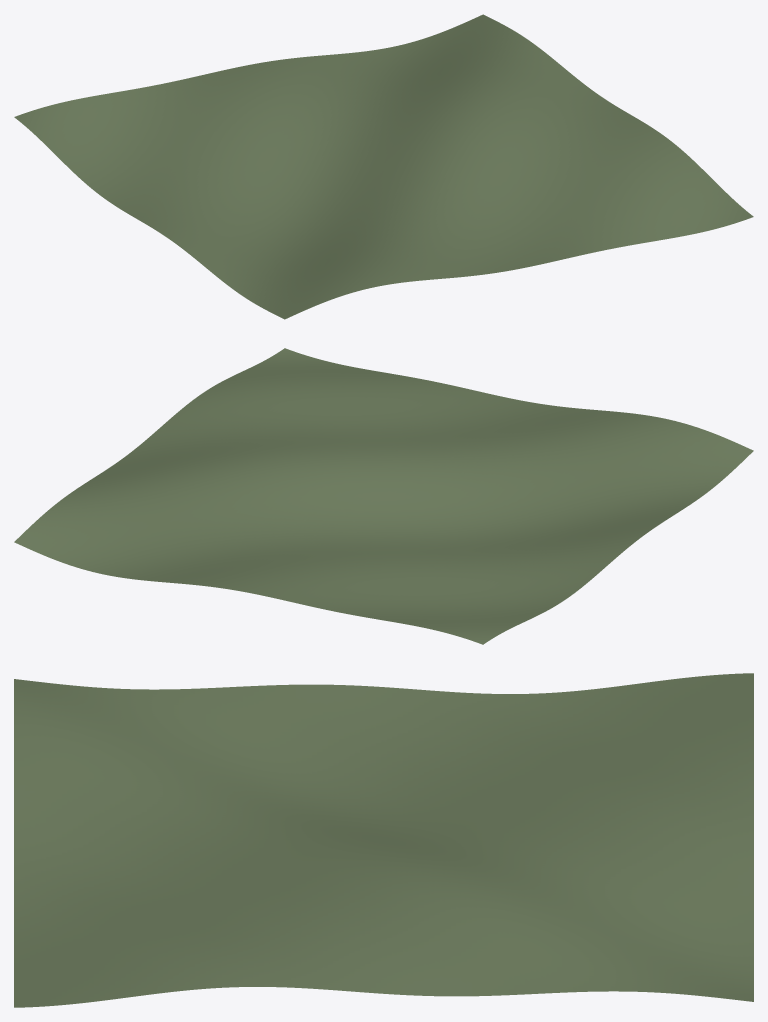
File: pine_stone_ridge.obj
3 renders of one model, top to bottom at view 1: azimuth 30°, elevation 25°; view 2: azimuth 150°, elevation 25°; view 3: azimuth 270°, elevation 25°, orthographic. The views are drawn at different scales.
Size of the model in its own units: 139 by 9.63 by 139.
